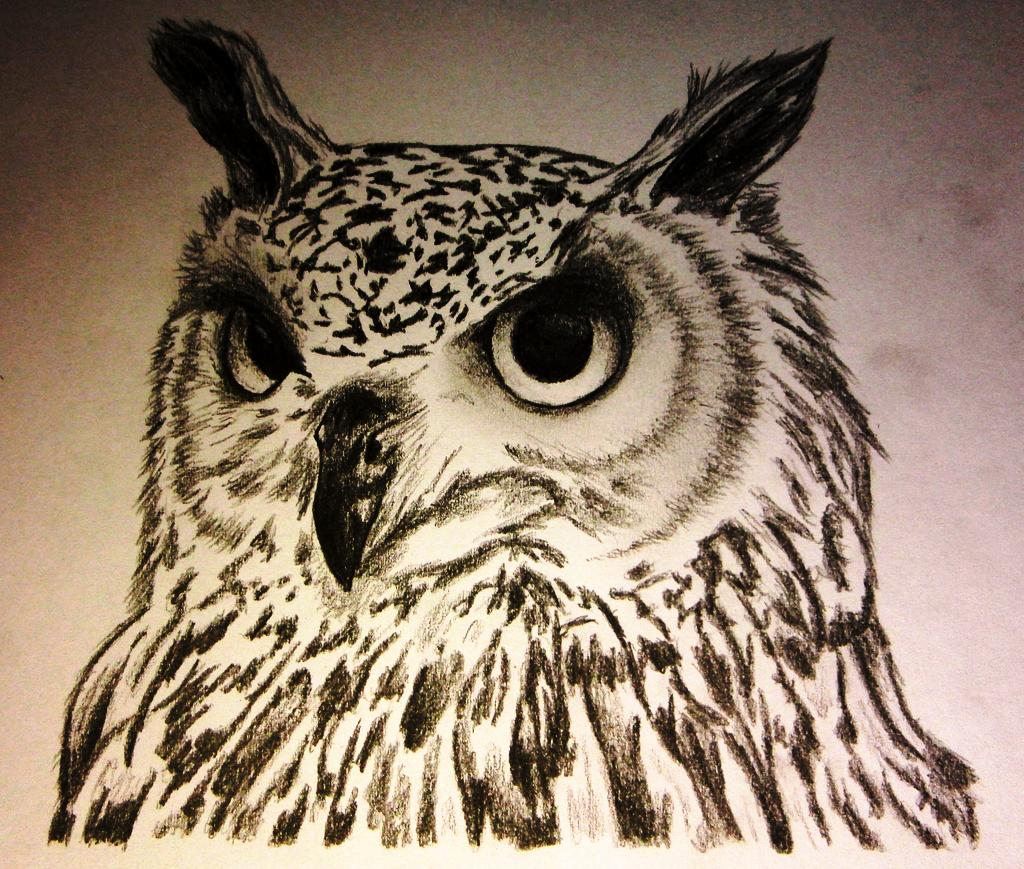Owl: (58, 7, 983, 855)
